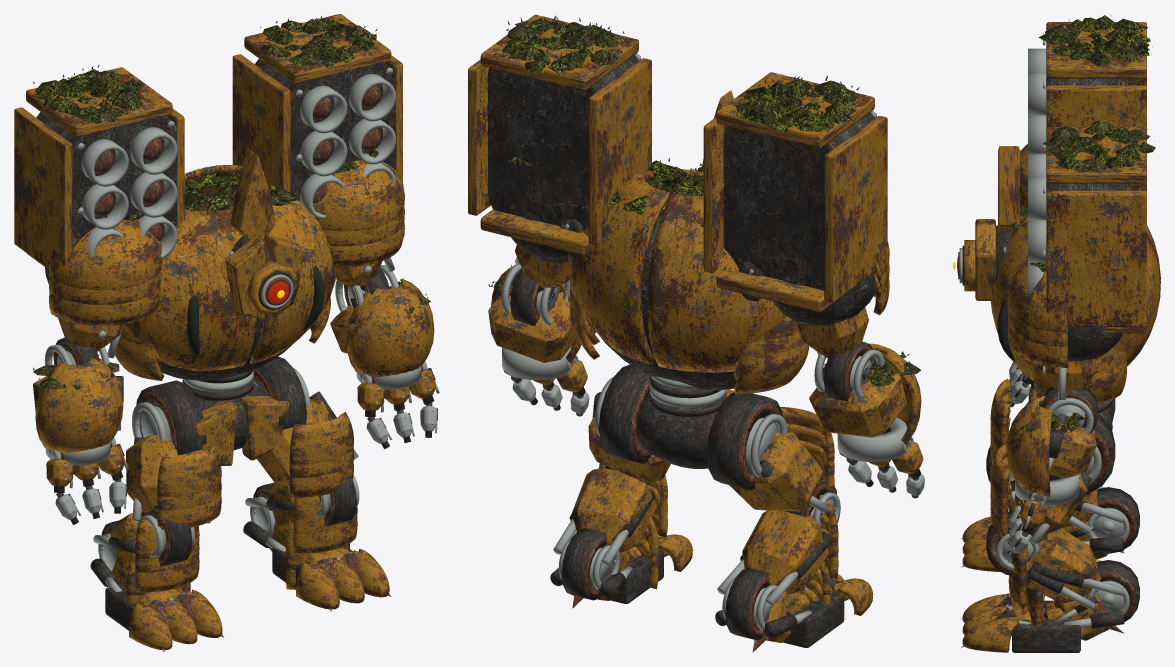
File: siege-beetle-boss.glb
The picture shows the model from 3 angles, left to right: view 1: azimuth 30°, elevation 25°; view 2: azimuth 150°, elevation 25°; view 3: azimuth 270°, elevation 25°; orthographic projection. The views are drawn at different scales.
Visible parts, largest first — view 1: Missile_pod_-1_Mesh, Thorax_Mesh, Missile_pod_1_Mesh, Boss_forearm_-1_Mesh, Boss_forearm_1_Mesh, boss_leg_-1_segment_0_Mesh, Boss_shoulder_-1_Mesh, boss_leg_1_segment_0_Mesh, Boss_shoulder_1_Mesh, Head_Mesh, boss_leg_-1_segment_1_Mesh, boss_leg_-1_foot_Mesh (+5 smaller); view 2: Missile_pod_-1_Mesh, Missile_pod_1_Mesh, Thorax_Mesh, Boss_forearm_-1_Mesh, boss_leg_-1_segment_0_Mesh, Boss_forearm_1_Mesh, boss_leg_-1_segment_1_Mesh, boss_leg_1_segment_1_Mesh, boss_leg_1_segment_0_Mesh, Boss_shoulder_-1_Mesh, boss_leg_-1_segment_2_Mesh, boss_leg_1_segment_2_Mesh (+4 smaller); view 3: Missile_pod_1_Mesh, Missile_pod_-1_Mesh, Boss_forearm_1_Mesh, Boss_shoulder_1_Mesh, boss_leg_1_segment_1_Mesh, Thorax_Mesh, boss_leg_1_foot_Mesh, Head_Mesh, boss_leg_1_segment_0_Mesh, boss_leg_1_segment_2_Mesh, boss_leg_-1_segment_2_Mesh, boss_leg_-1_segment_0_Mesh (+4 smaller).
Boxes of the visible parts, bbox=[...] form: Missile_pod_-1_Mesh: bbox=[14, 65, 184, 268]; Thorax_Mesh: bbox=[110, 165, 337, 400]; Missile_pod_1_Mesh: bbox=[232, 14, 402, 219]; Boss_forearm_-1_Mesh: bbox=[33, 337, 128, 524]; Boss_forearm_1_Mesh: bbox=[330, 265, 439, 448]; boss_leg_-1_segment_0_Mesh: bbox=[126, 380, 221, 529]; Boss_shoulder_-1_Mesh: bbox=[45, 211, 162, 358]; boss_leg_1_segment_0_Mesh: bbox=[253, 356, 358, 500]; Boss_shoulder_1_Mesh: bbox=[313, 150, 404, 298]; Head_Mesh: bbox=[217, 149, 304, 319]; boss_leg_-1_segment_1_Mesh: bbox=[93, 505, 199, 591]; boss_leg_-1_foot_Mesh: bbox=[105, 574, 223, 652]; Missile_pod_-1_Mesh: bbox=[703, 72, 887, 312]; Missile_pod_1_Mesh: bbox=[468, 14, 651, 257]; Thorax_Mesh: bbox=[568, 157, 809, 416]; Boss_forearm_-1_Mesh: bbox=[809, 341, 924, 498]; boss_leg_-1_segment_0_Mesh: bbox=[707, 392, 834, 515]; Boss_forearm_1_Mesh: bbox=[488, 264, 589, 416]; boss_leg_-1_segment_1_Mesh: bbox=[717, 479, 840, 606]; boss_leg_1_segment_1_Mesh: bbox=[553, 463, 667, 566]; boss_leg_1_segment_0_Mesh: bbox=[588, 364, 670, 482]; Boss_shoulder_-1_Mesh: bbox=[772, 241, 889, 357]; boss_leg_-1_segment_2_Mesh: bbox=[715, 559, 830, 642]; boss_leg_1_segment_2_Mesh: bbox=[550, 515, 658, 600]; Missile_pod_1_Mesh: bbox=[1028, 119, 1155, 333]; Missile_pod_-1_Mesh: bbox=[1028, 15, 1152, 153]; Boss_forearm_1_Mesh: bbox=[1006, 386, 1098, 556]; Boss_shoulder_1_Mesh: bbox=[1007, 260, 1122, 399]; boss_leg_1_segment_1_Mesh: bbox=[986, 511, 1124, 609]; Thorax_Mesh: bbox=[991, 202, 1160, 412]; boss_leg_1_foot_Mesh: bbox=[961, 593, 1124, 652]; Head_Mesh: bbox=[953, 146, 1027, 301]; boss_leg_1_segment_0_Mesh: bbox=[990, 414, 1115, 544]; boss_leg_1_segment_2_Mesh: bbox=[1026, 560, 1139, 640]; boss_leg_-1_segment_2_Mesh: bbox=[1061, 487, 1139, 559]; boss_leg_-1_segment_0_Mesh: bbox=[990, 379, 1115, 480].
Size of the model in its own units: 3.08 by 3.93 by 1.42.
Materials: 8 (4 with a texture image).
